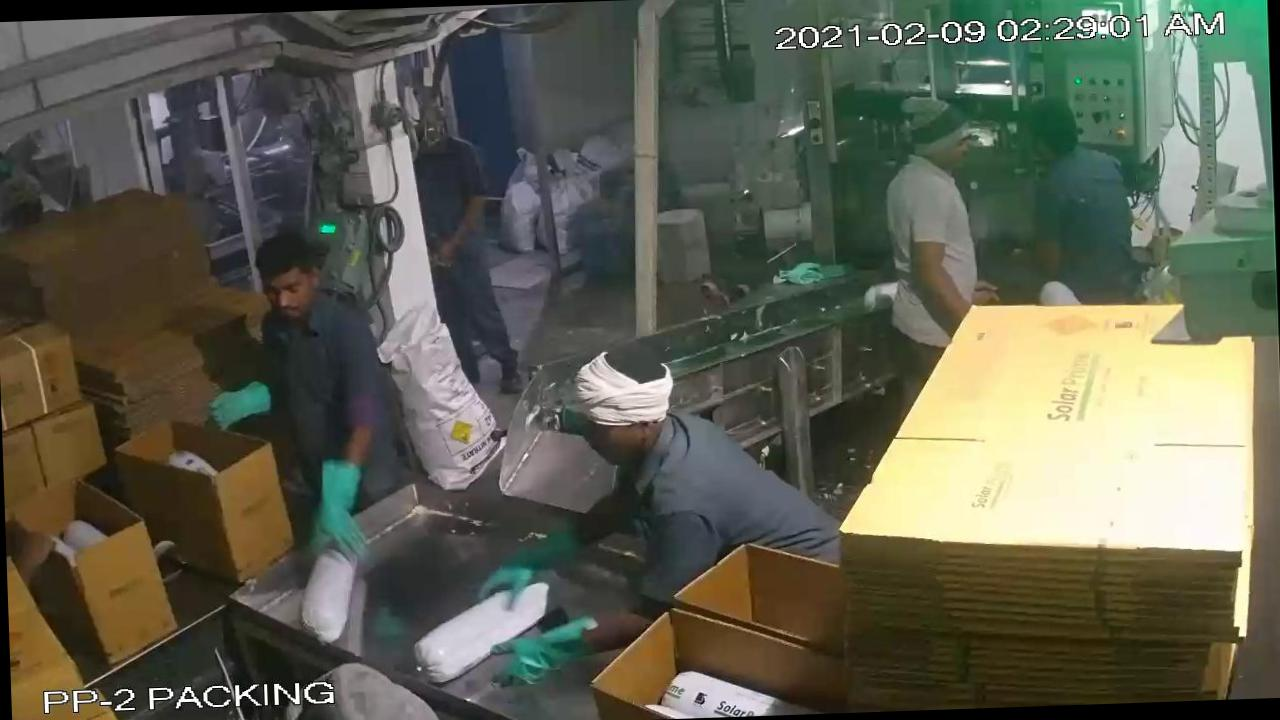Gloves: (457, 503, 611, 604), (294, 444, 397, 566), (487, 618, 607, 688), (192, 372, 288, 436)
No-gloves: (910, 234, 980, 341), (429, 182, 489, 273), (8, 522, 58, 598)
